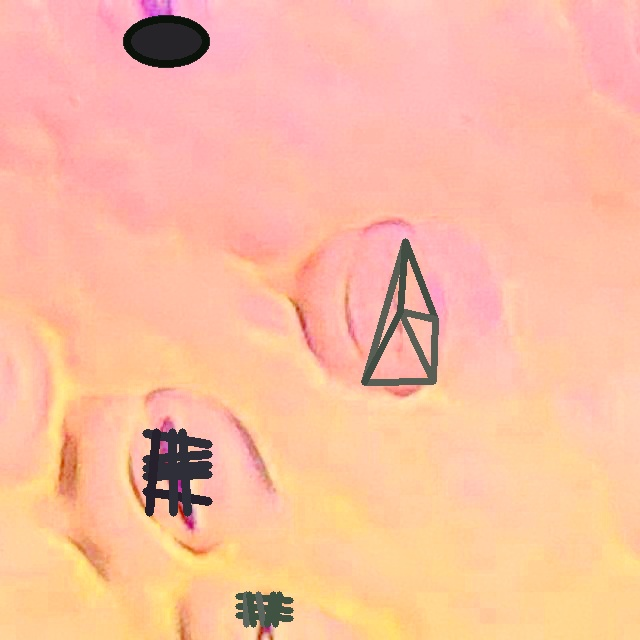open: (361, 238, 438, 384), (143, 428, 212, 515), (123, 15, 208, 68), (236, 591, 292, 627)
